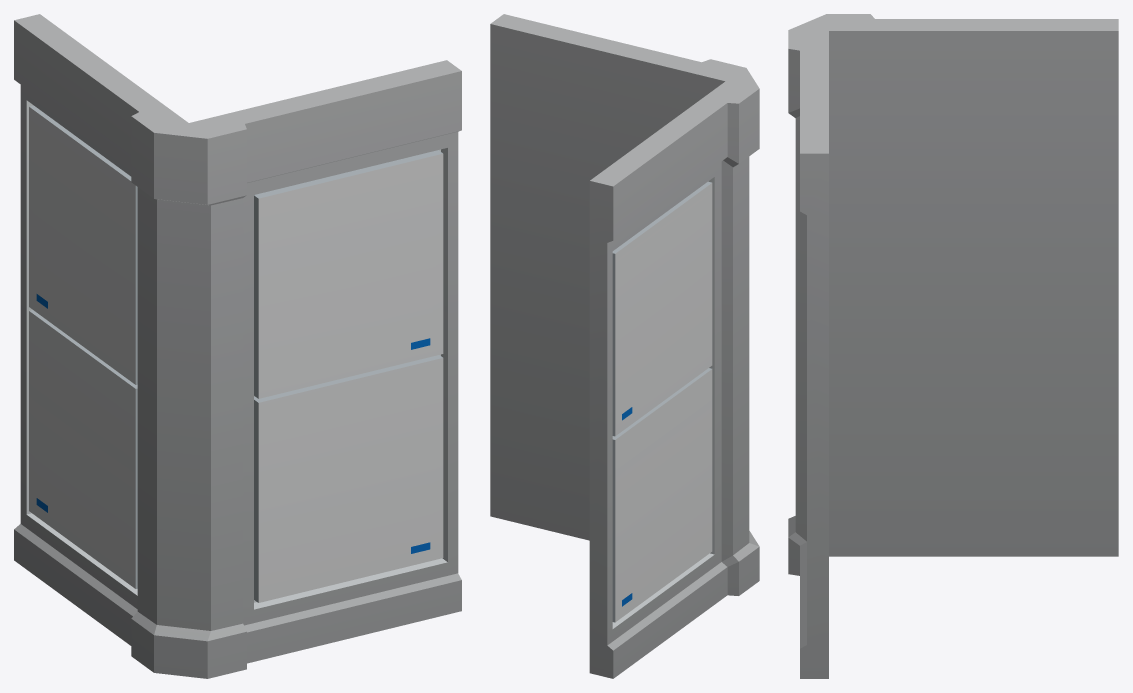
The model's file is Wall_type_A_014.fbx.
3 views of the same model, side by side, from view 1: azimuth 30°, elevation 25°; view 2: azimuth 150°, elevation 25°; view 3: azimuth 270°, elevation 25° (orthographic). The views are drawn at different scales.
Visible parts, largest first — view 1: Wall_type_A_014; view 2: Wall_type_A_014; view 3: Wall_type_A_014.
Boxes of the visible parts, x1=… form: Wall_type_A_014: x1=14, y1=14, x2=461, y2=678; Wall_type_A_014: x1=490, y1=14, x2=759, y2=678; Wall_type_A_014: x1=788, y1=14, x2=1118, y2=678.
Size of the model in its own units: 228 by 228 by 400.
